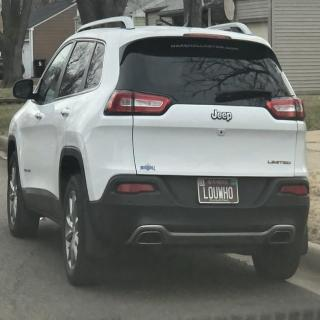license: (198, 178, 240, 205)
